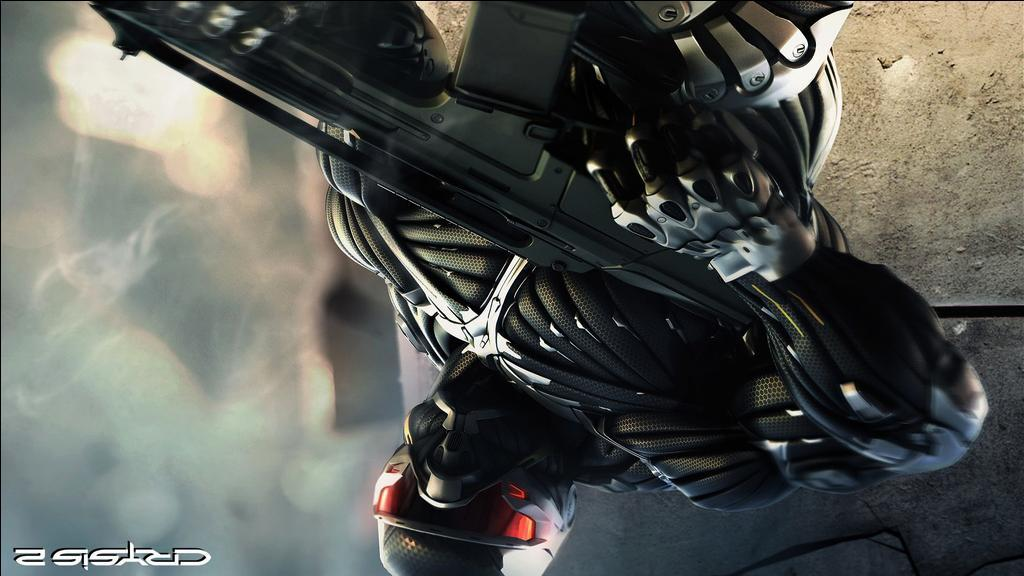gun: (85, 0, 921, 338)
